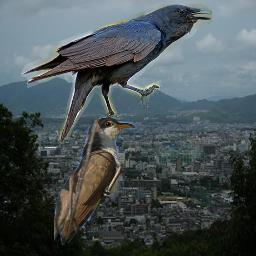Crow: (21, 4, 212, 144)
Cuckoo: (54, 117, 155, 245)
